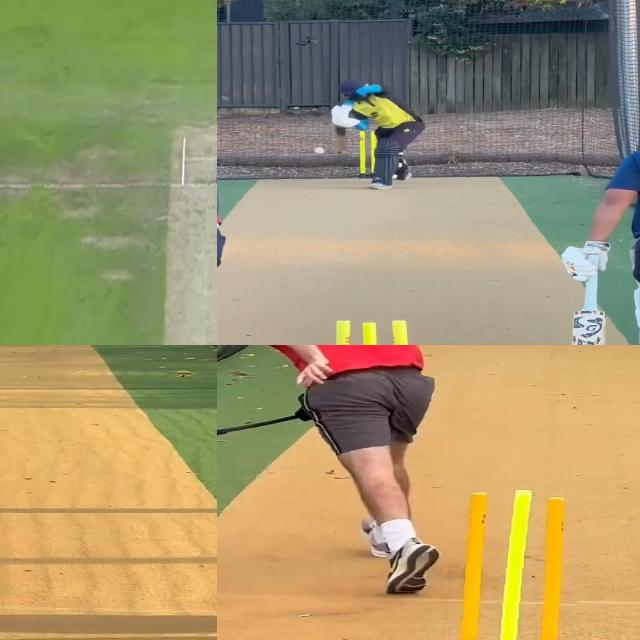Cricket ball: (311, 145, 329, 155)
Stumps: (448, 490, 583, 640)
